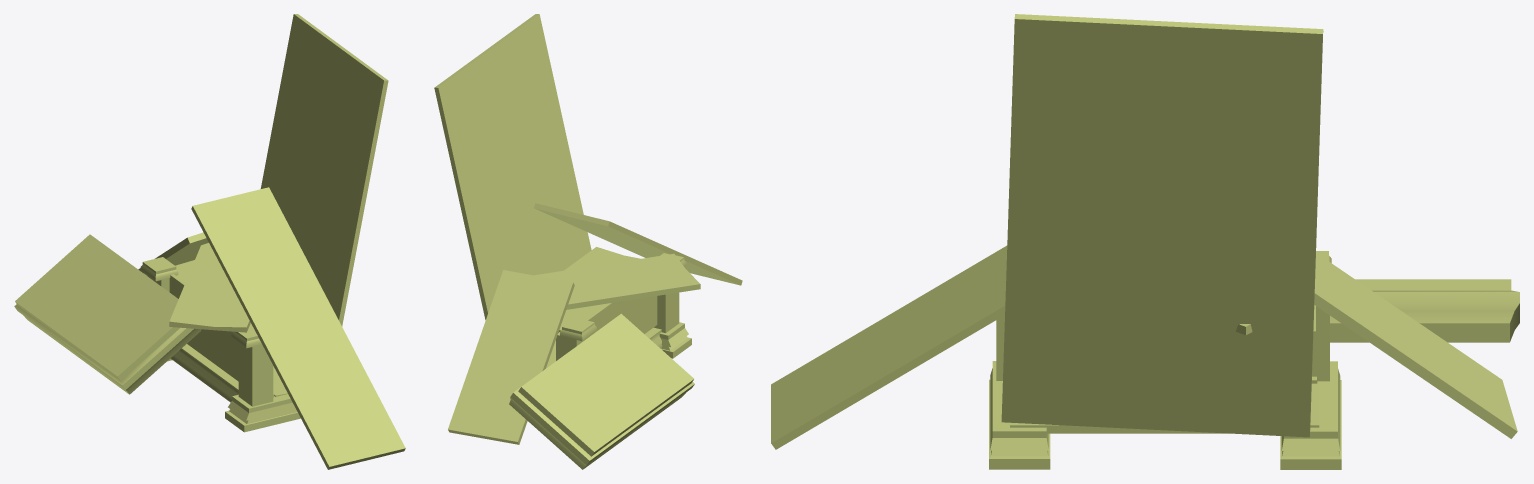
The model's file is Cupboard_11A_Break_Lod0.fbx.
3 renders of one model, left to right at view 1: azimuth 30°, elevation 25°; view 2: azimuth 150°, elevation 25°; view 3: azimuth 270°, elevation 25°, orthographic. The views are drawn at different scales.
Visible parts, largest first — view 1: Cupboard_11A_Break_Lod0; view 2: Cupboard_11A_Break_Lod0; view 3: Cupboard_11A_Break_Lod0.
Boxes of the visible parts, bbox=[...] form: Cupboard_11A_Break_Lod0: bbox=[14, 14, 405, 469]; Cupboard_11A_Break_Lod0: bbox=[434, 14, 742, 469]; Cupboard_11A_Break_Lod0: bbox=[771, 14, 1519, 469].
Bounding box in the file's own units: 148 × 196 × 271.
